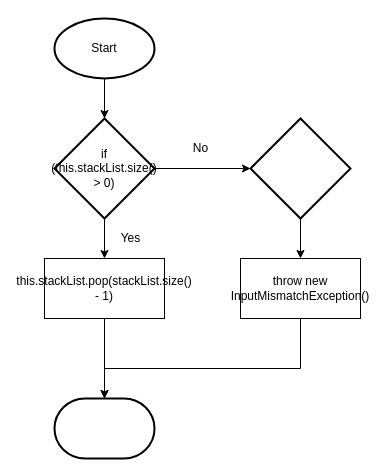
Some shapes in this 387 by 476 pixel diagram are drawn without their labels. Each missing label, with the box of its shape:
else: (249, 117, 351, 219)
Stop: (53, 397, 155, 459)
